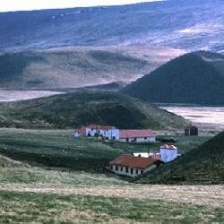neutral: (1, 7, 223, 224)
